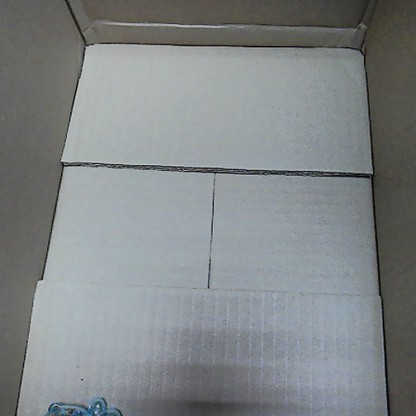bluefish: (39, 395, 129, 414)
